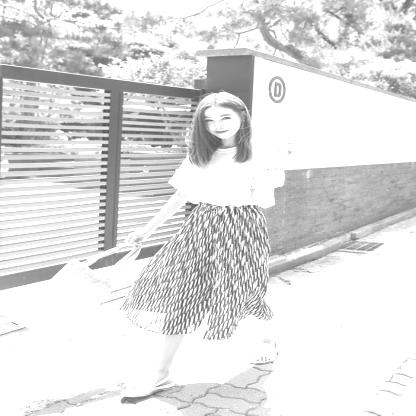dress: (121, 203, 277, 339), (168, 135, 285, 207)
